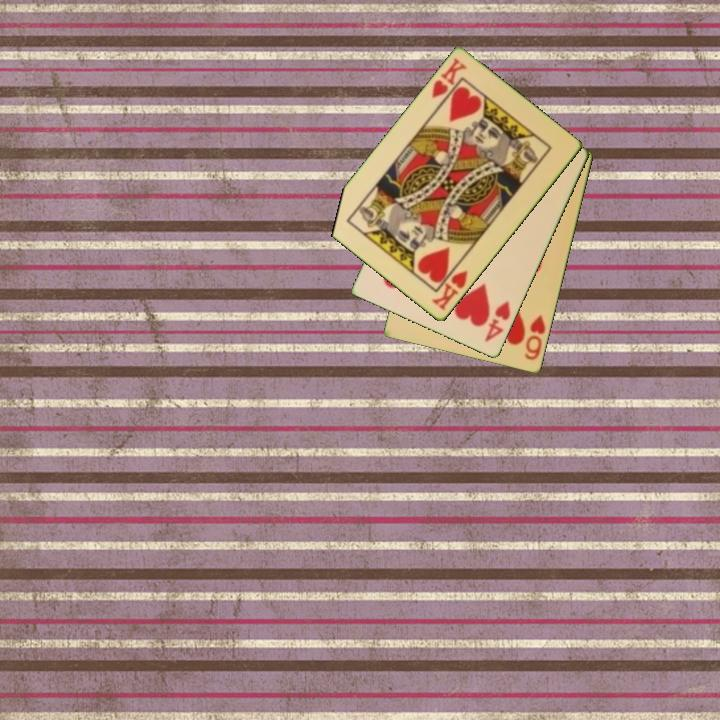4h: (481, 298, 513, 346)
6h: (522, 312, 549, 363)
Kh: (428, 260, 471, 314), (428, 54, 470, 108)
